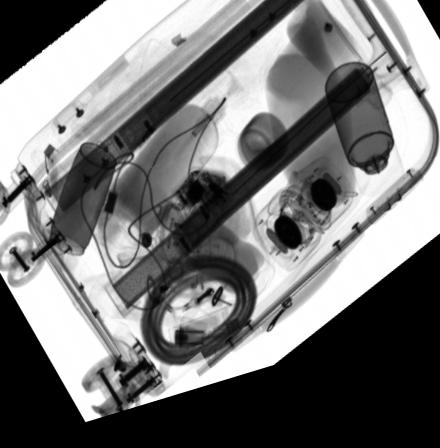Sprayer: (323, 82, 403, 219)
